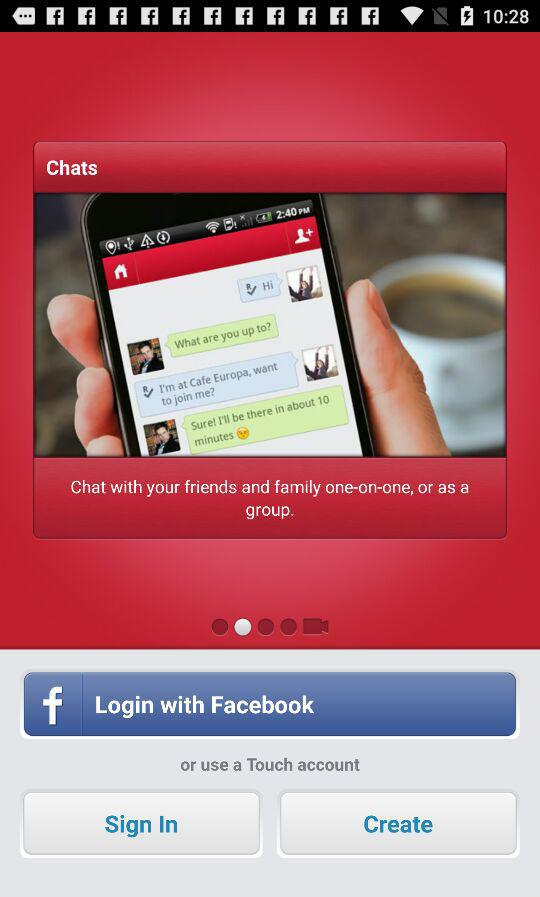Image: (35, 193, 507, 458)
PageIndicator: (211, 616, 330, 638)
Text: (71, 479, 470, 522), (181, 757, 362, 774), (46, 160, 98, 177)
TextButton: (24, 671, 517, 737), (280, 792, 518, 856), (24, 792, 261, 856)
UpperTaskBar: (1, 1, 540, 33)
